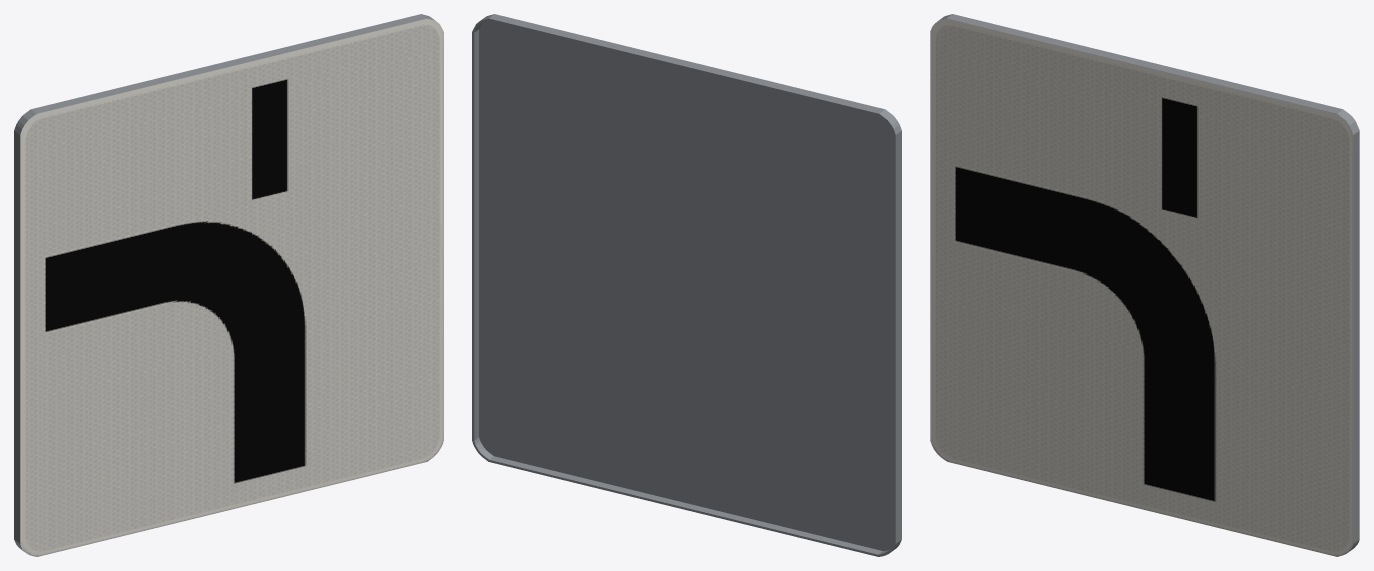
3 renders of one model, left to right at view 1: azimuth 30°, elevation 25°; view 2: azimuth 150°, elevation 25°; view 3: azimuth 330°, elevation 25°, orthographic.
Visible parts, largest first — view 1: cat_d8723cb0b4666a21; view 2: cat_d8723cb0b4666a21; view 3: cat_d8723cb0b4666a21.
Boxes of the visible parts, x1=… form: cat_d8723cb0b4666a21: x1=14, y1=14, x2=443, y2=556; cat_d8723cb0b4666a21: x1=472, y1=14, x2=901, y2=556; cat_d8723cb0b4666a21: x1=930, y1=14, x2=1359, y2=556.
Size of the model in its own units: 0.6 by 0.015 by 0.6.
Materials: 2 (1 with a texture image).
